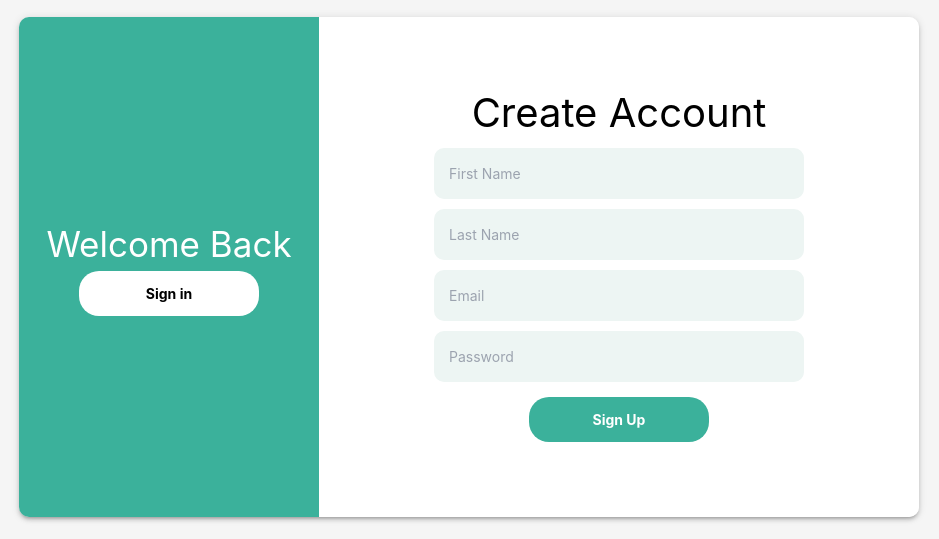
Signup component › should display error message on failed form submission
Fill in form fields
Type "John" into the field with placeholder "First Name".
click(619, 173); type("John")  # box [434,148,804,198]
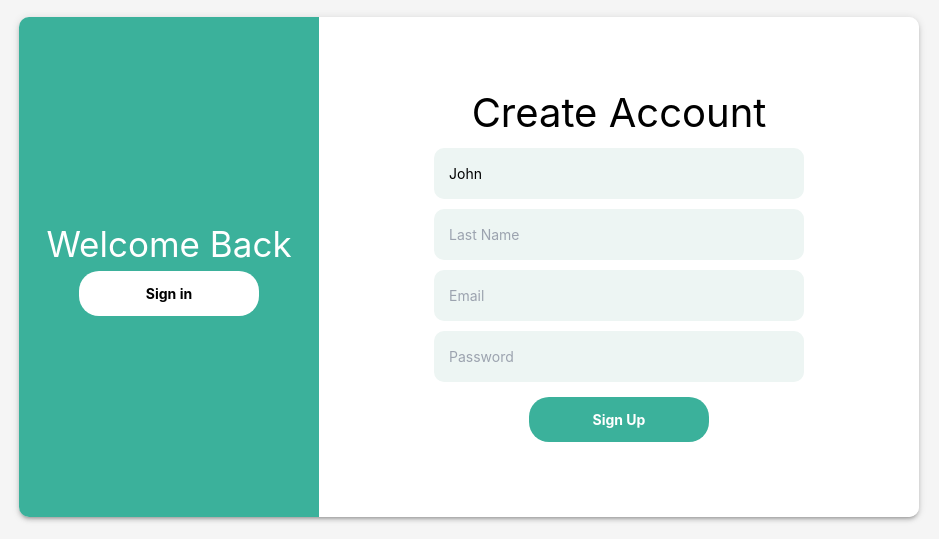
Type "Doe" into the field with placeholder "Last Name".
click(619, 234); type("Doe")  # box [434,208,804,260]
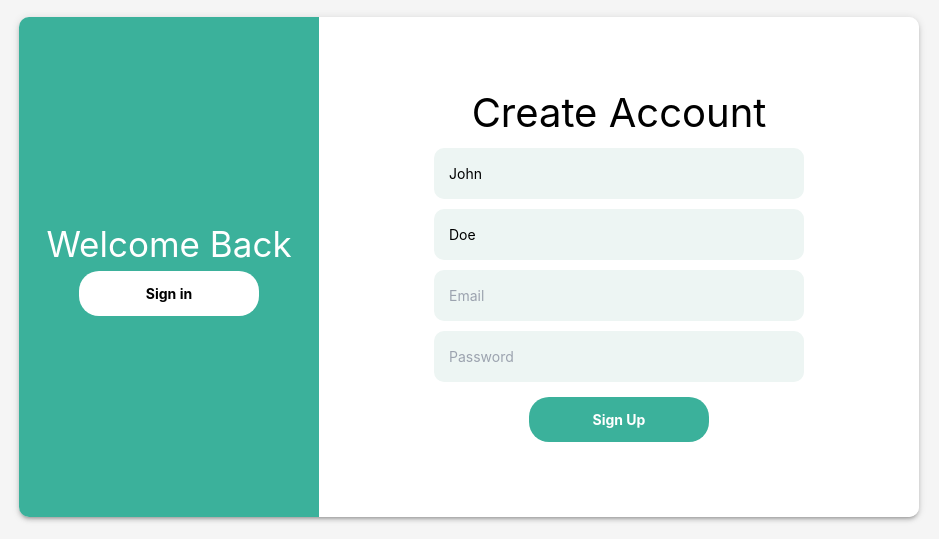
Type "john@example.com" into the field with placeholder "Email".
click(619, 295); type("john@example.com")  # box [434,270,804,320]
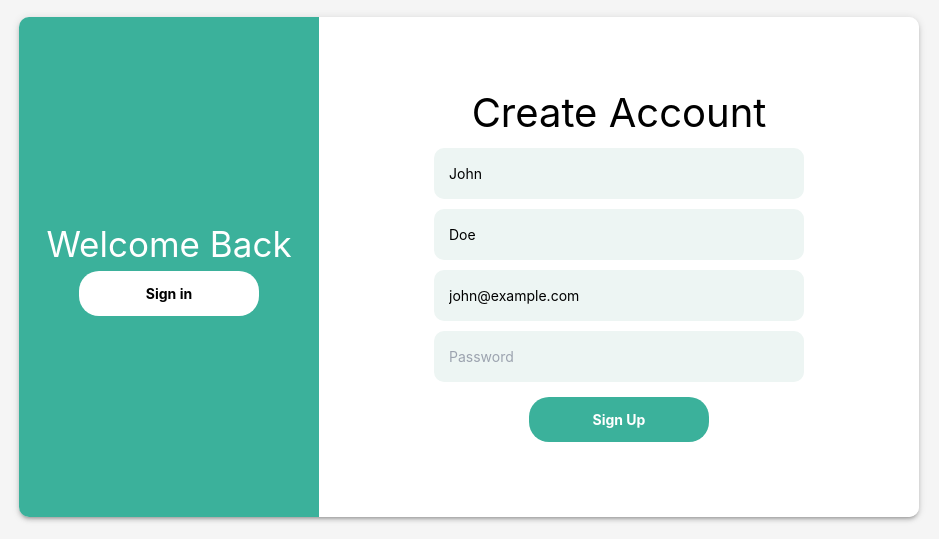
Type "password123" into the password field with placeholder "Password".
click(619, 356); type("password123")  # box [434,330,804,382]
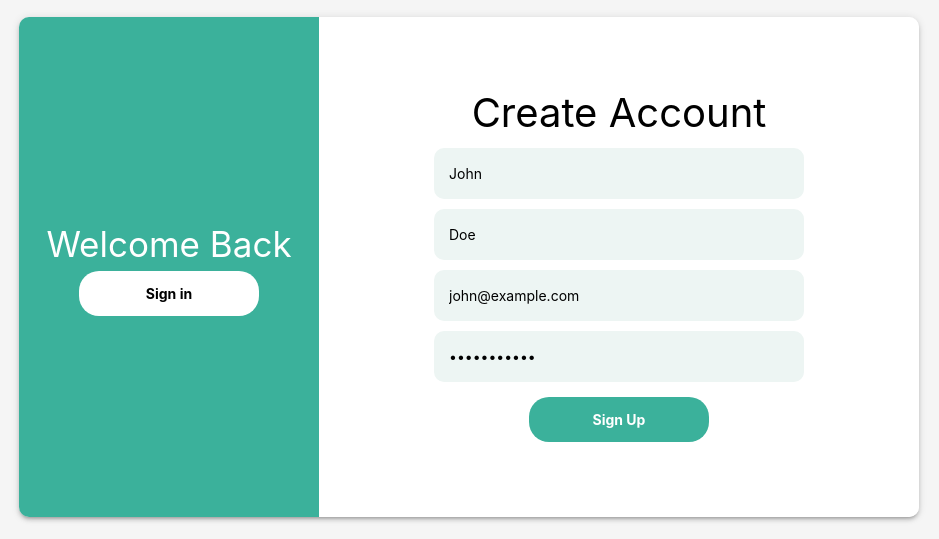
Submit the form
Submit the form from the button "Sign Up", box [529,396,709,442]
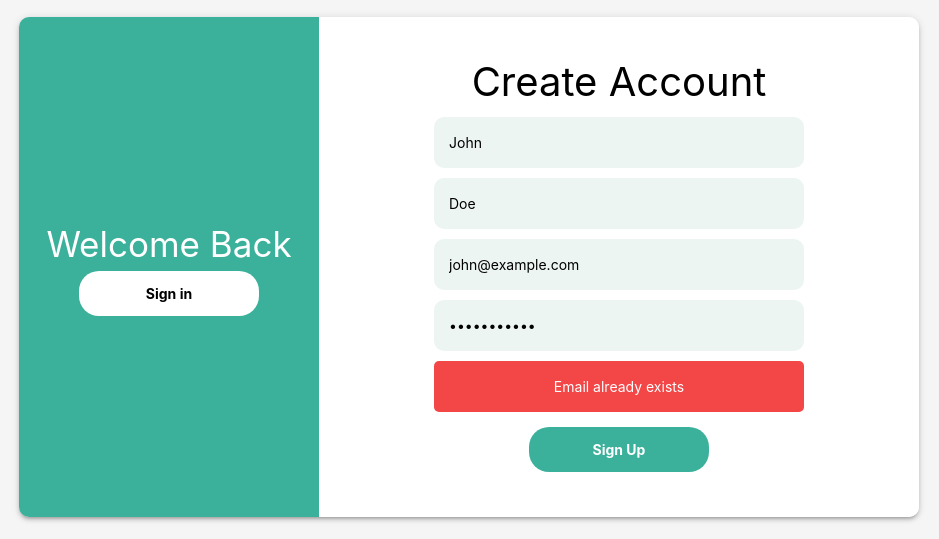
Check: the text "Email already exists" is shown, box [434,361,804,412]
